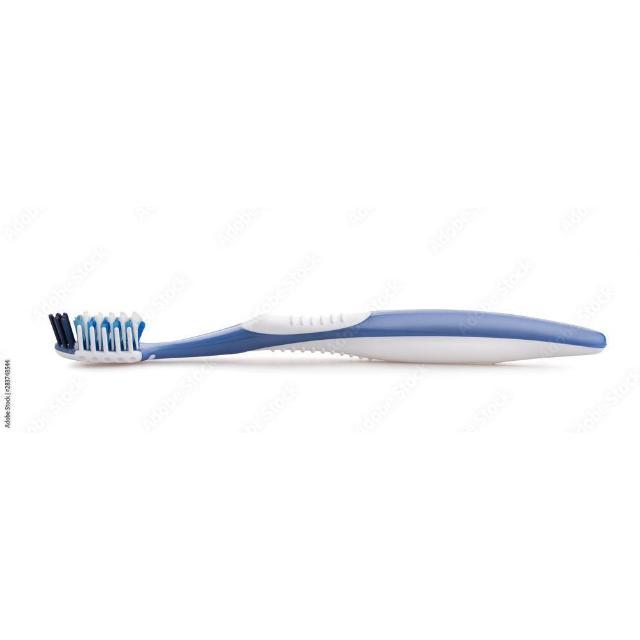toothbrush: (35, 286, 623, 396)
